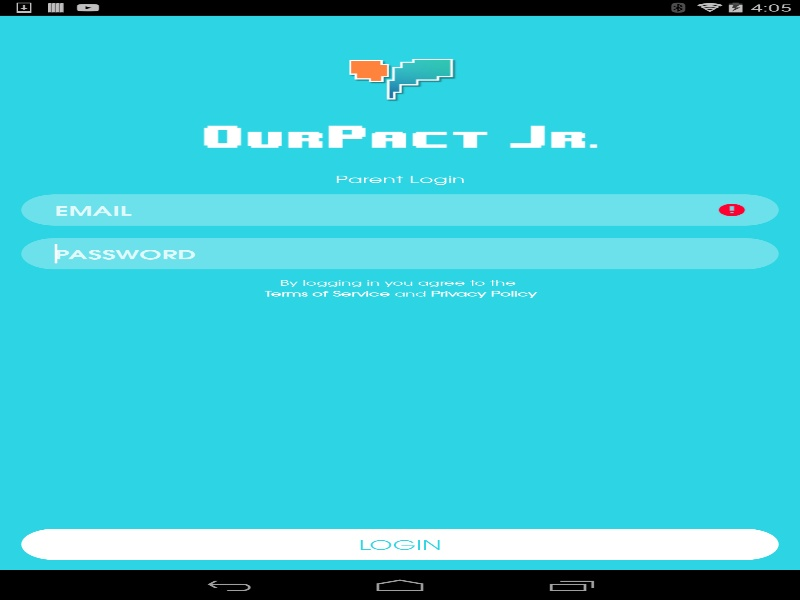Input: (21, 194, 778, 225), (21, 238, 778, 269)
